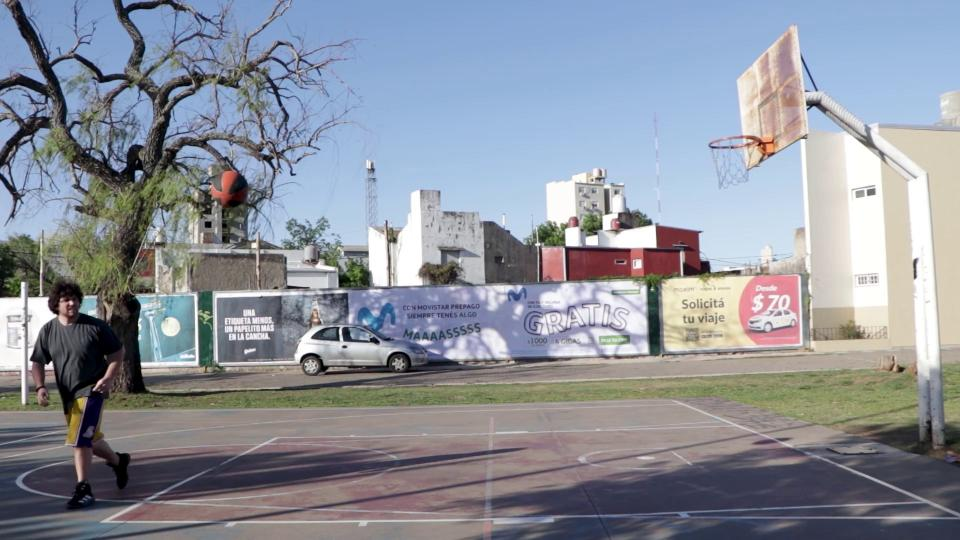hoop: (708, 135, 761, 150)
